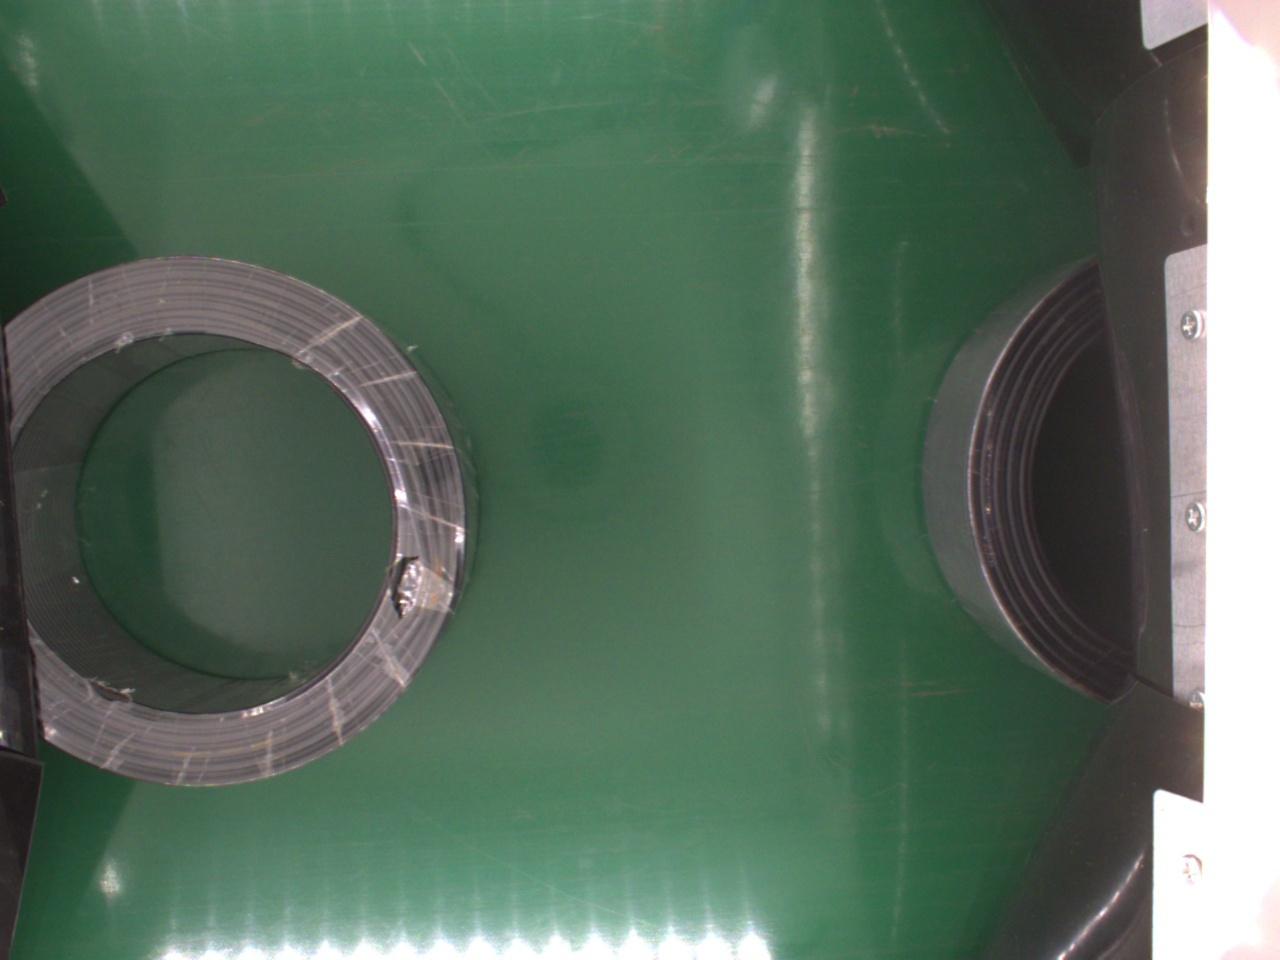black: (5, 255, 474, 789), (915, 253, 1141, 703)
